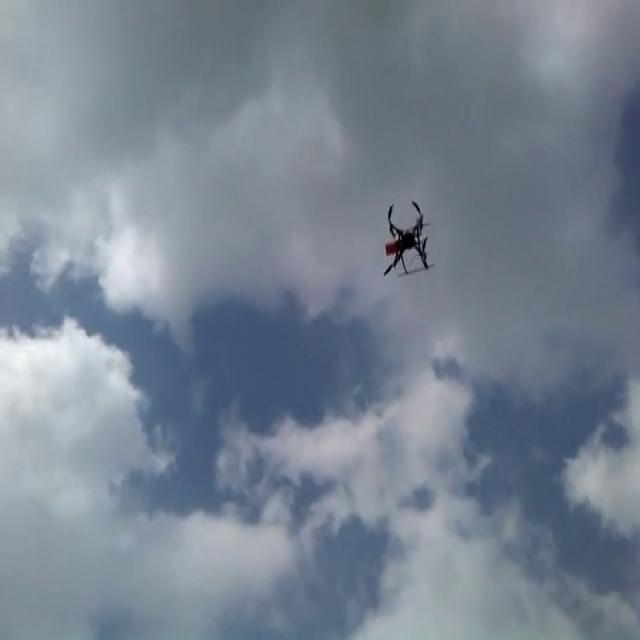drone: (380, 195, 435, 282)
